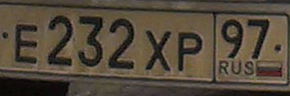character: (46, 13, 74, 66), (109, 16, 136, 70), (78, 12, 104, 67), (144, 28, 174, 73), (13, 21, 41, 66), (176, 31, 203, 77), (245, 18, 272, 61), (220, 19, 244, 59)
